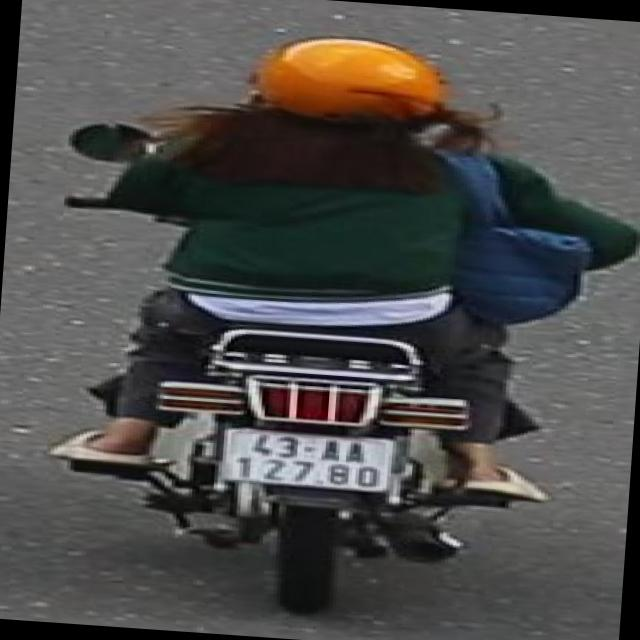LP: (218, 424, 402, 498)
helmet: (233, 26, 465, 150)
